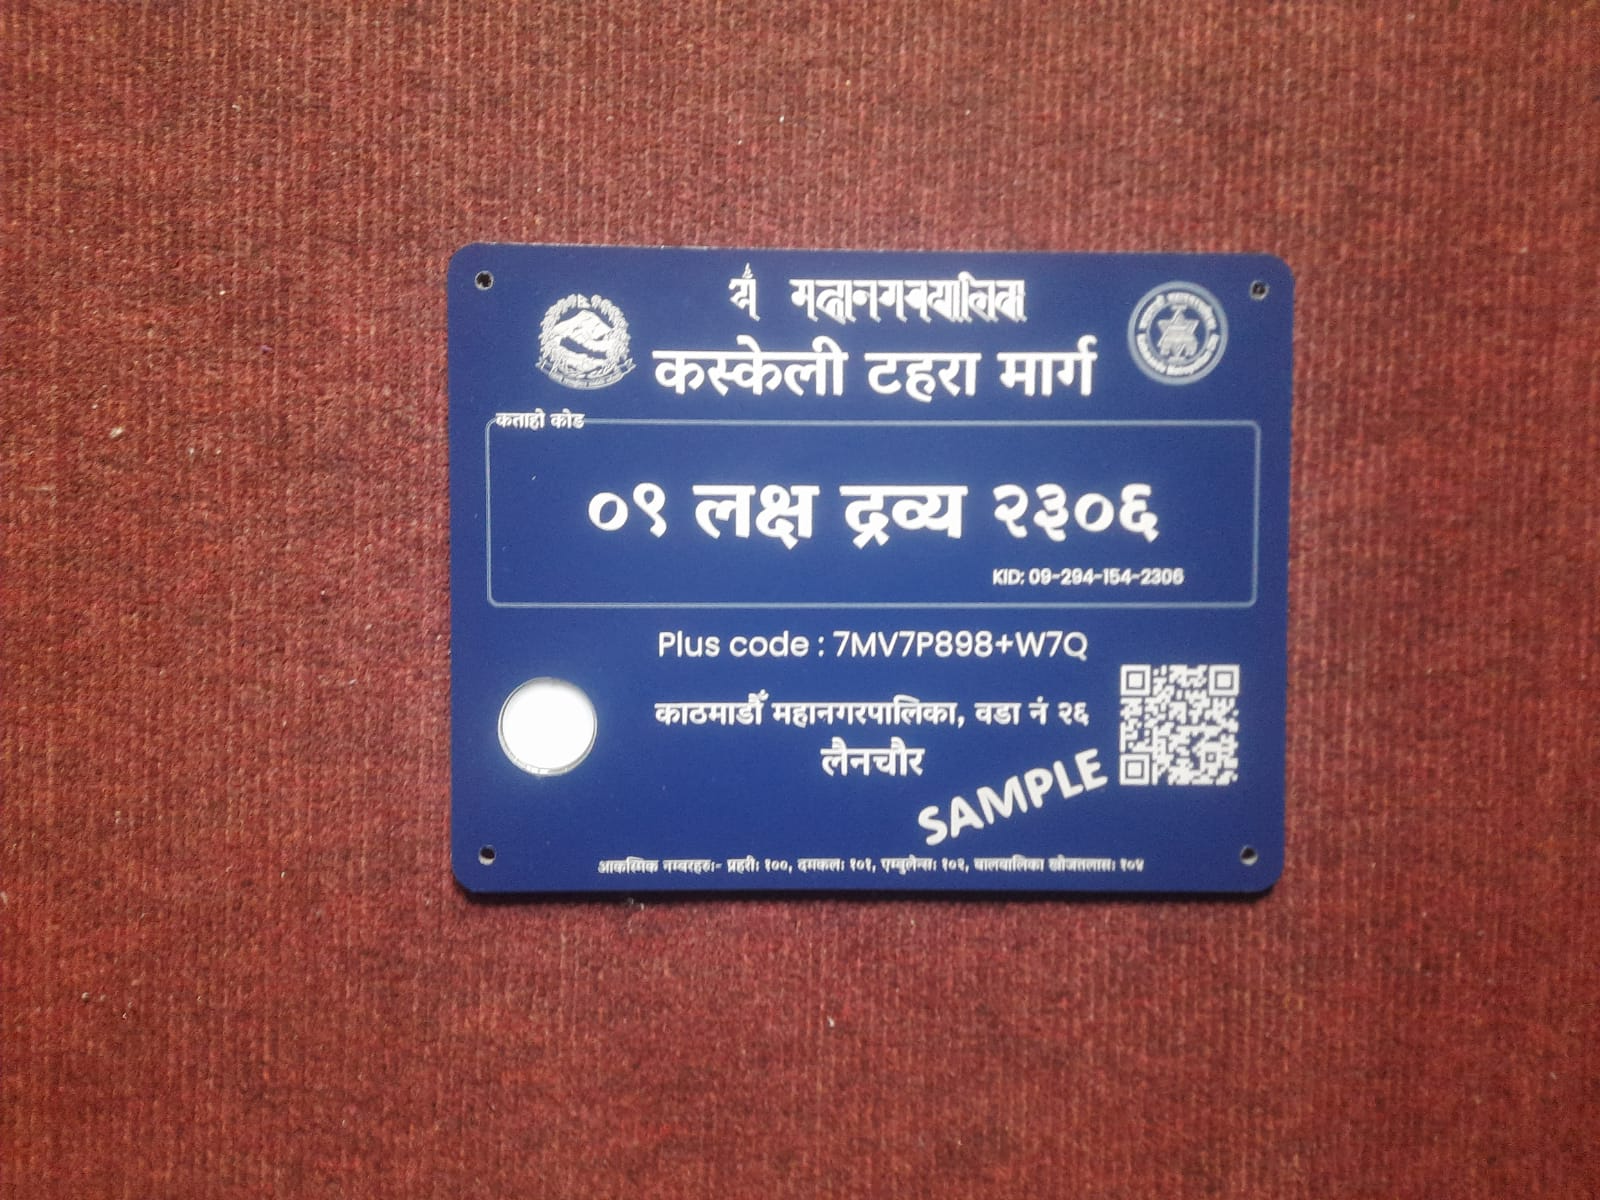Plate: (443, 241, 1299, 909)
